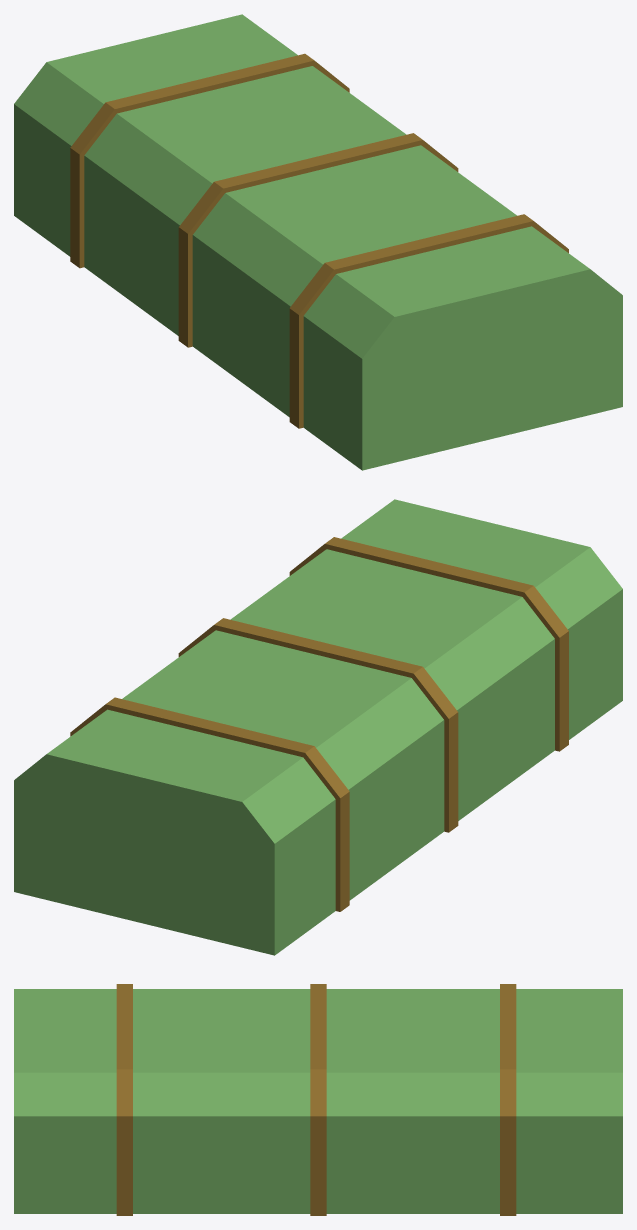
The model's file is Grosse_Mallette.fbx.
The picture shows the model from 3 angles, top to bottom: view 1: azimuth 30°, elevation 25°; view 2: azimuth 150°, elevation 25°; view 3: azimuth 270°, elevation 25°; orthographic projection. The views are drawn at different scales.
Visible parts, largest first — view 1: Grosse_Mallette; view 2: Grosse_Mallette; view 3: Grosse_Mallette.
Part boxes in pixels (x1,y1,x2,y2): Grosse_Mallette: (14, 14, 622, 470); Grosse_Mallette: (14, 499, 622, 955); Grosse_Mallette: (14, 984, 622, 1215).
Size of the model in its own units: 58.22 by 31.02 by 130.
1 material, 1 textured.
